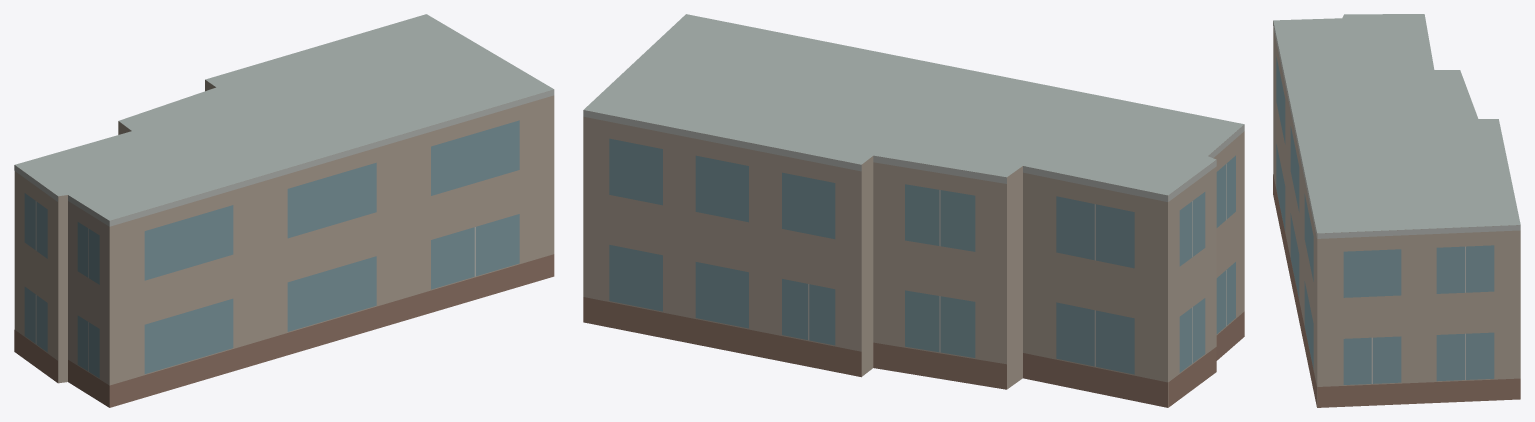
Rendered from survey-upis-32636502.glb.
3 views of the same model, side by side, from view 1: azimuth 30°, elevation 25°; view 2: azimuth 150°, elevation 25°; view 3: azimuth 270°, elevation 25° (orthographic). The views are drawn at different scales.
Visible parts, largest first — view 1: survey-upis-32636502.tmp; view 2: survey-upis-32636502.tmp; view 3: survey-upis-32636502.tmp.
Boxes of the visible parts, x1=… form: survey-upis-32636502.tmp: x1=14, y1=14, x2=554, y2=407; survey-upis-32636502.tmp: x1=583, y1=14, x2=1244, y2=407; survey-upis-32636502.tmp: x1=1273, y1=14, x2=1520, y2=407.
Bounding box in the file's own units: 20.78 × 7.7 × 9.91.
